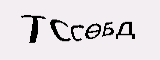Ж: (83, 19, 102, 39)
З: (58, 23, 69, 43)
О: (102, 17, 122, 35)
П: (69, 24, 82, 41)
Ш: (34, 21, 54, 41)
